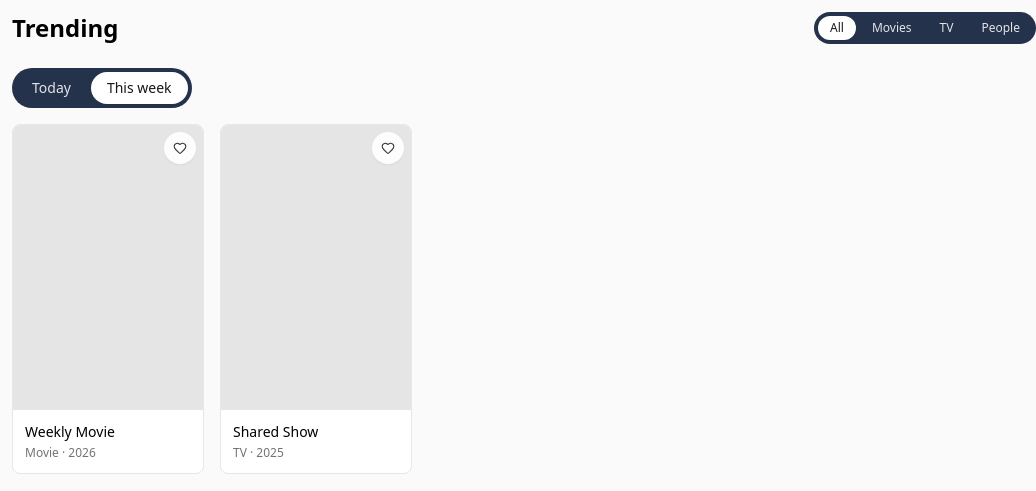
it: Trending (integration) › switches between Day and Week tabs and shows each window's data
Expected: the text "Weekly Movie" is shown, [25,422,115,441]
# Switching tabs reveals the day panel, which kicks off its fetch.
Click the tab "Today": x=51, y=88 [16,72,87,104]
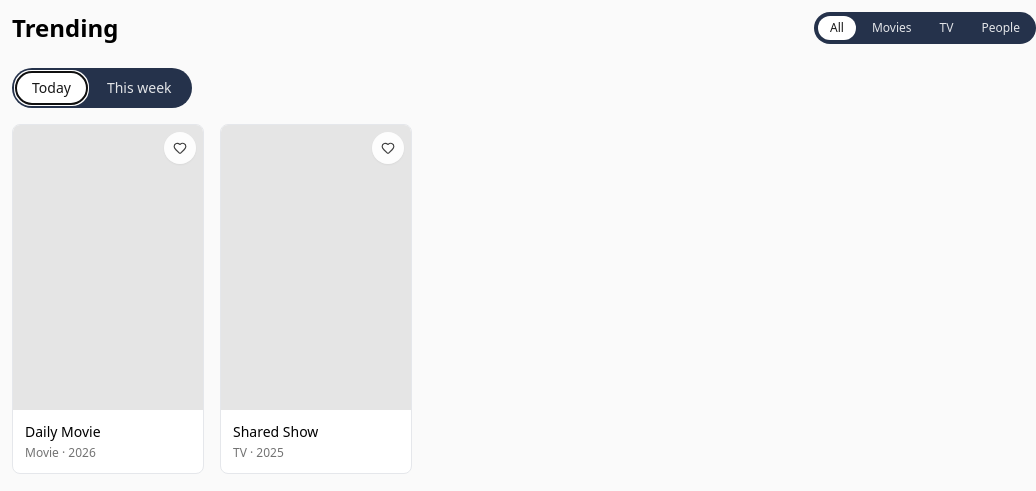
Now the text "Daily Movie" is shown, box [25,422,101,441]
